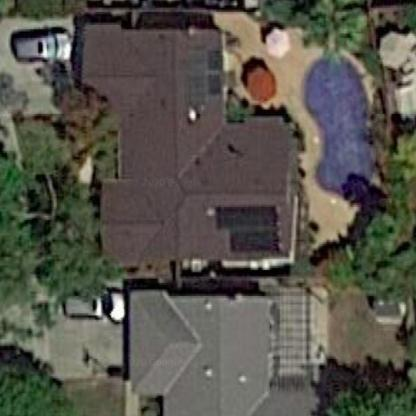car: (50, 278, 128, 328), (5, 20, 74, 69)
solar_panel: (204, 197, 290, 261), (185, 35, 233, 118)
swimming_pool: (287, 36, 385, 211)
